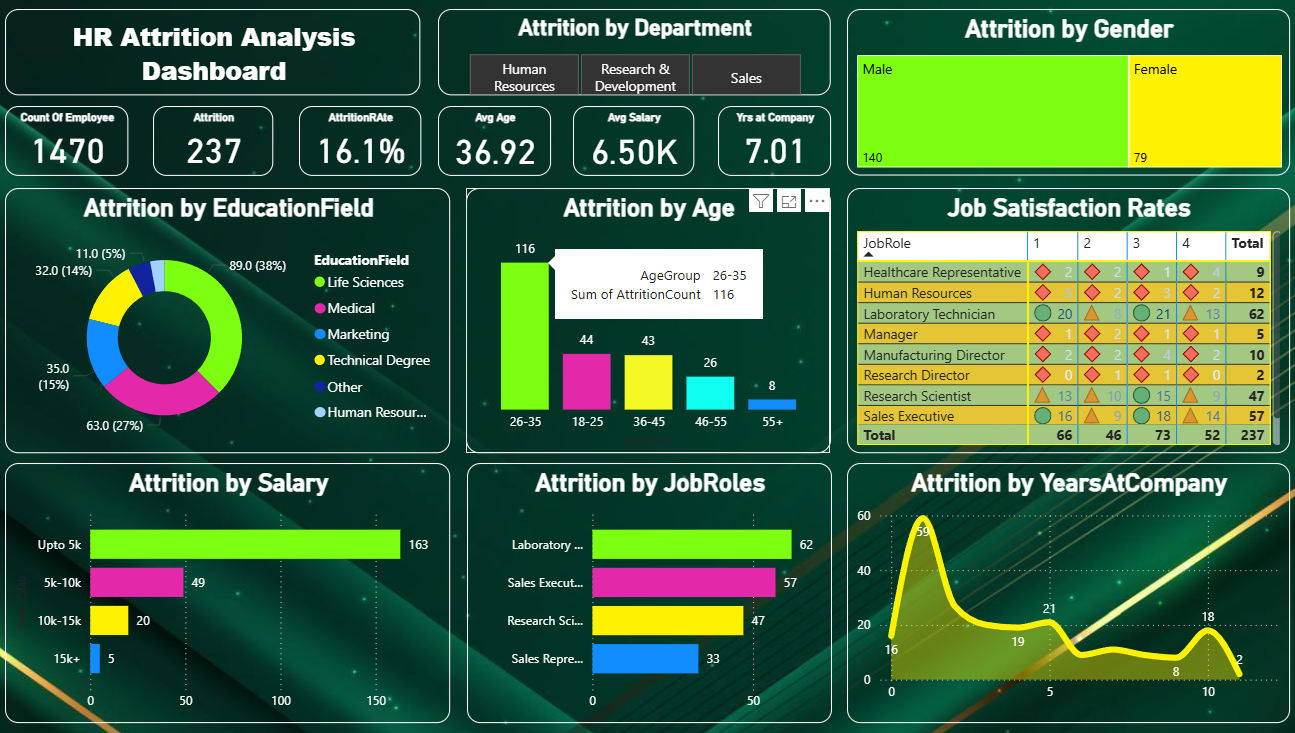

The page's visual inventory and layout, read from the dashboard file:
{"tool":"powerbi","page":{"name":"Page 1","canvas":[1280,720],"ordinal":0},"visuals":[{"type":"card","title":"Count Of Employee","fields":{"Values":["CountNonNull(HR_Analytics (2).EmpID)"]},"box":[13.6,108.9,119.5,68],"z":0},{"type":"card","title":"Avg Age","fields":{"Values":["Avg(HR_Analytics.Age)"]},"box":[434.4,108.9,109.8,68],"z":1000},{"type":"card","title":"AttritionRAte","fields":{"Values":["HR_Analytics.AttritionRate"]},"box":[299.3,108.9,118.6,68],"z":2000},{"type":"card","title":"Attrition","fields":{"Values":["Sum(HR_Analytics (2).AttritionCount)"]},"box":[157.4,108.9,116.6,68],"z":3000},{"type":"card","title":"Yrs at Company","fields":{"Values":["Avg(HR_Analytics.YearsAtCompany)"]},"box":[707.5,108.9,109.8,68],"z":4000},{"type":"card","title":"Avg Salary","fields":{"Values":["Avg(HR_Analytics.MonthlyIncome)"]},"box":[565.6,108.9,117.6,68],"z":5000},{"type":"donutChart","title":" Attrition by EducationField","fields":{"Category":["HR_Analytics.EducationField"],"Y":["Sum(HR_Analytics.AttritionCount)"]},"box":[13.6,188.5,433.5,257.6],"z":6000},{"type":"columnChart","title":" Attrition by Age","fields":{"Category":["HR_Analytics.AgeGroup"],"Y":["Sum(HR_Analytics.AttritionCount)"]},"box":[461.7,188.5,354.7,257.6],"z":7000},{"type":"pivotTable","title":"Job Satisfaction Rates","fields":{"Rows":["HR_Analytics.JobRole"],"Columns":["HR_Analytics.JobSatisfaction"],"Values":["Sum(HR_Analytics.AttritionCount)"]},"box":[832.9,188.5,430.6,257.6],"z":8000},{"type":"clusteredBarChart","title":" Attrition by Salary","fields":{"Category":["HR_Analytics.SalarySlab"],"Y":["Sum(HR_Analytics.AttritionCount)"]},"box":[13.6,455.8,433.5,252.7],"z":9000},{"type":"clusteredBarChart","title":" Attrition by JobRoles","fields":{"Y":["Sum(HR_Analytics.AttritionCount)"],"Category":["HR_Analytics.JobRole"]},"box":[462.6,455.8,354.7,252.7],"z":10000},{"type":"areaChart","title":" Attrition by YearsAtCompany","fields":{"Category":["HR_Analytics.YearsAtCompany"],"Y":["Sum(HR_Analytics.AttritionCount)"]},"box":[832.9,455.8,430.6,252.7],"z":11000},{"type":"treemap","title":" Attrition by Gender","fields":{"Group":["HR_Analytics.Gender"],"Values":["Sum(HR_Analytics.AttritionCount)"]},"box":[832.9,14.6,430.6,162.3],"z":12000},{"type":"slicer","title":"Attrition by Department","fields":{"Values":["HR_Analytics.Department"]},"box":[434.4,14.6,382,83.6],"z":13000},{"type":"textbox","box":[13.6,14.6,404.3,83.6],"z":14000}]}

Visuals, with their boxes in screenshot pixels (x1, y1, x2, y2), scaled from the page's 1280x720 canvas onto the 1295x733 screenshot:
"Count Of Employee" card: 14/111/135/180
"Avg Age" card: 439/111/551/180
"AttritionRAte" card: 303/111/423/180
"Attrition" card: 159/111/277/180
"Yrs at Company" card: 716/111/827/180
"Avg Salary" card: 572/111/691/180
" Attrition by EducationField" donutChart: 14/192/452/454
" Attrition by Age" columnChart: 467/192/826/454
"Job Satisfaction Rates" pivotTable: 843/192/1278/454
" Attrition by Salary" clusteredBarChart: 14/464/452/721
" Attrition by JobRoles" clusteredBarChart: 468/464/827/721
" Attrition by YearsAtCompany" areaChart: 843/464/1278/721
" Attrition by Gender" treemap: 843/15/1278/180
"Attrition by Department" slicer: 439/15/826/100
textbox: 14/15/423/100
